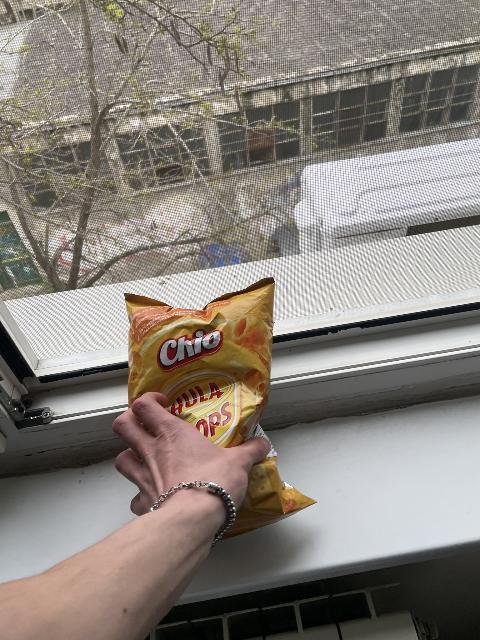Chio Hula Hoops Cheese 70g: (123, 279, 311, 535)
